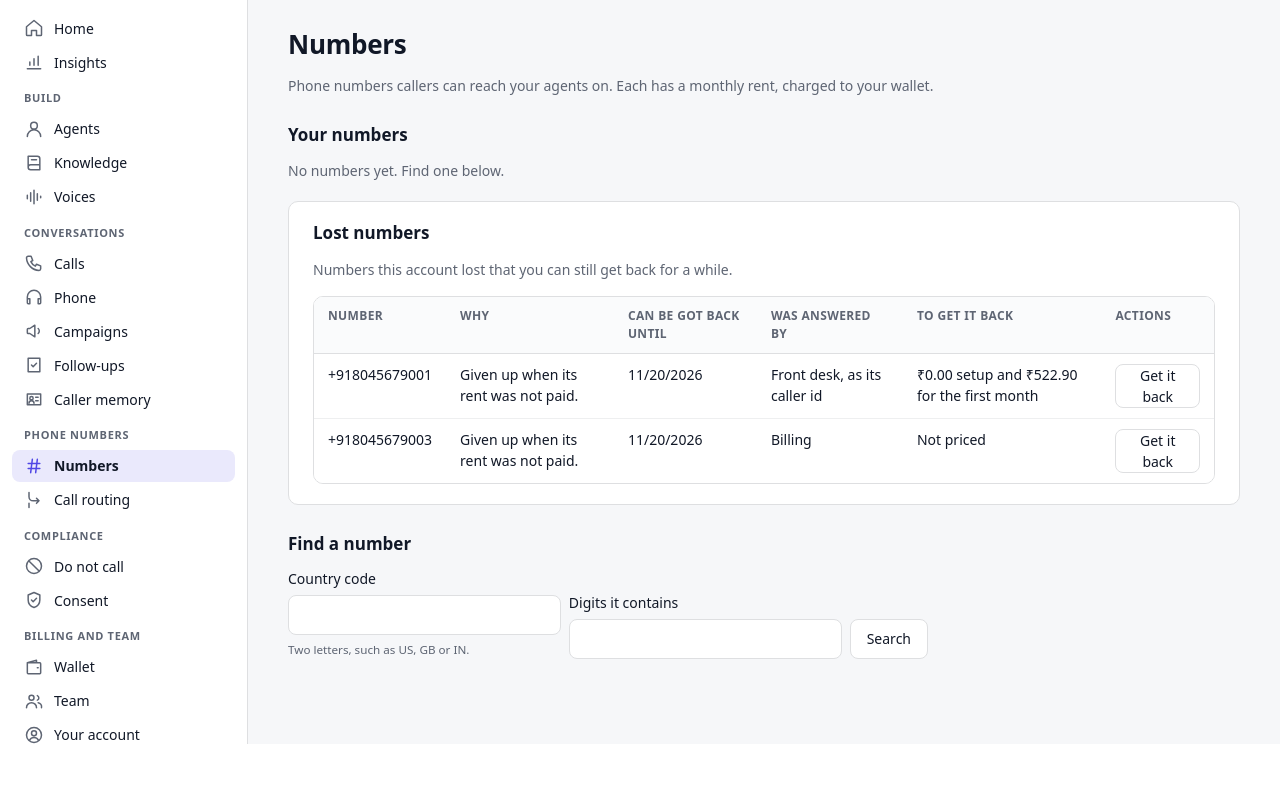
lost numbers › being got back by hand: says so in its row until the date, without reading the lists again; unpriced, the confirm names no cost
The image size is (1280, 800).
Expected: the table named "Lost numbers" is shown, [314,297,1214,483]
Click the button "Get it back" in the row of "+918045679003". click: (1158, 451)
box: [1116,429,1200,473]
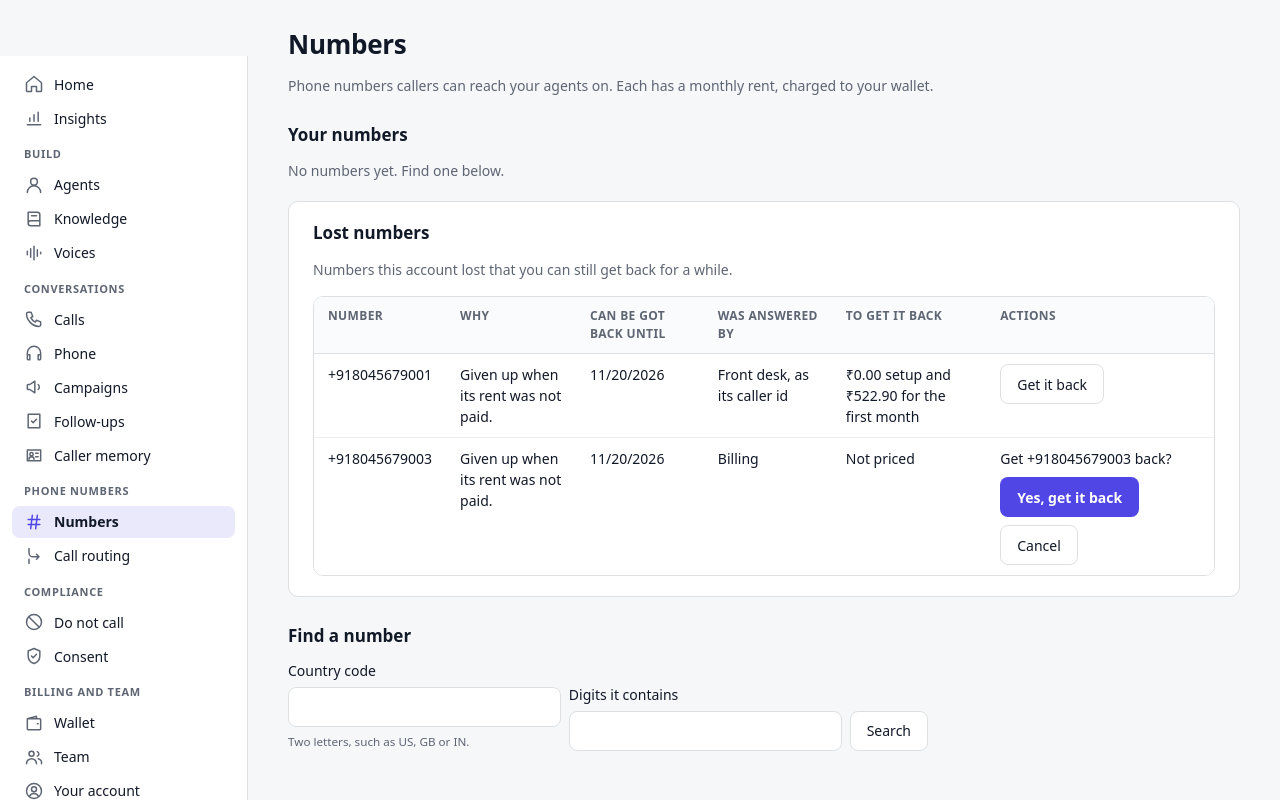
Expected: the text "Get +918045679003 back?" is shown, [1000,448,1172,469]
Click the button "Yes, get it back". click: (1070, 497)
box: [1000,477,1139,517]
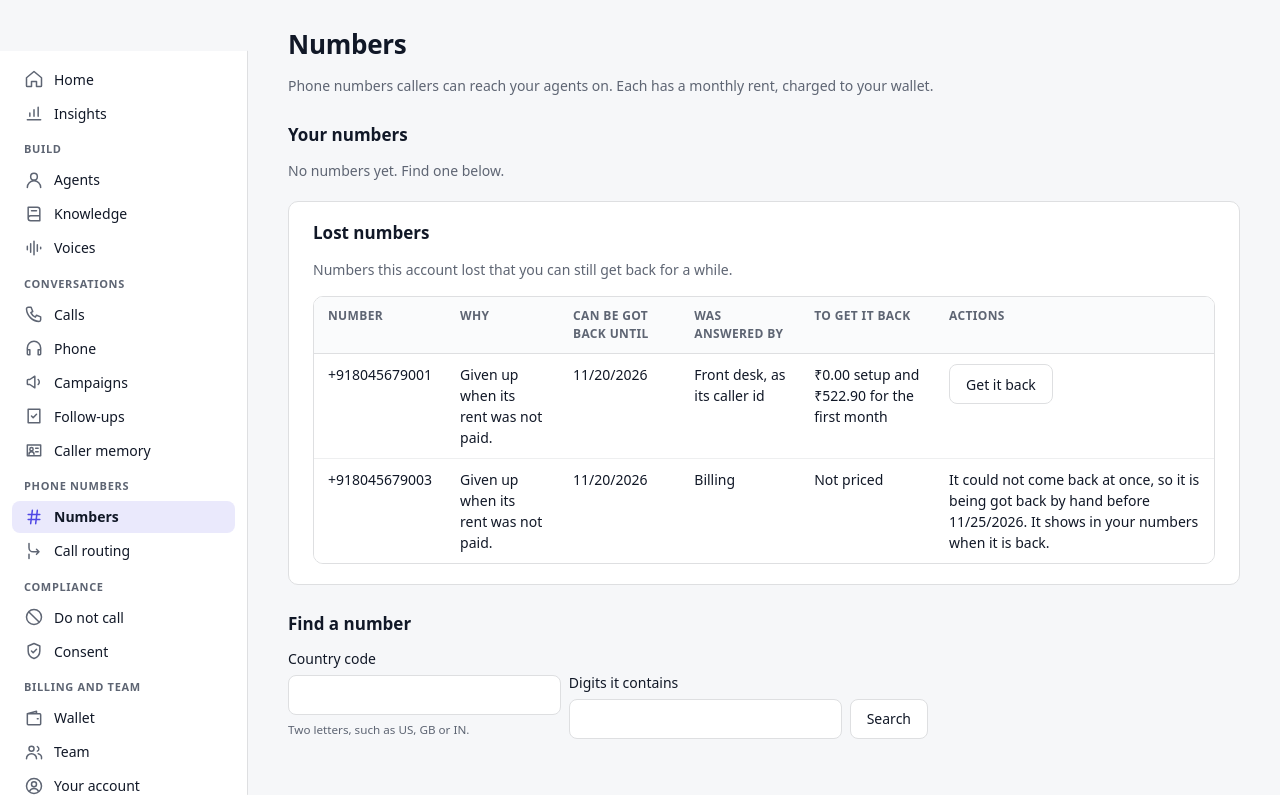
Expected: the button "Yes, get it back" is gone
Click the button "Get it back". click: (1001, 384)
box: [949,364,1053,404]
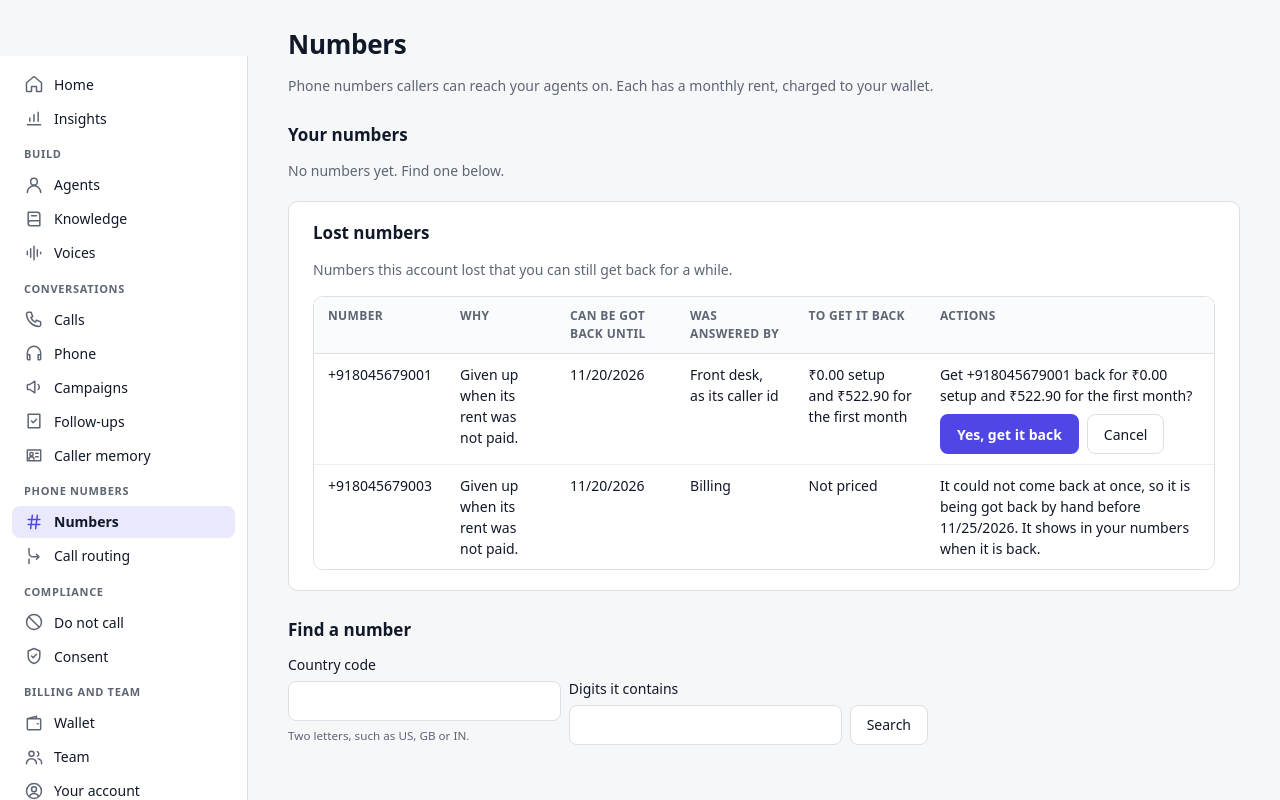
Click the button "Yes, get it back". click: (1009, 434)
box: [940,414,1079,454]
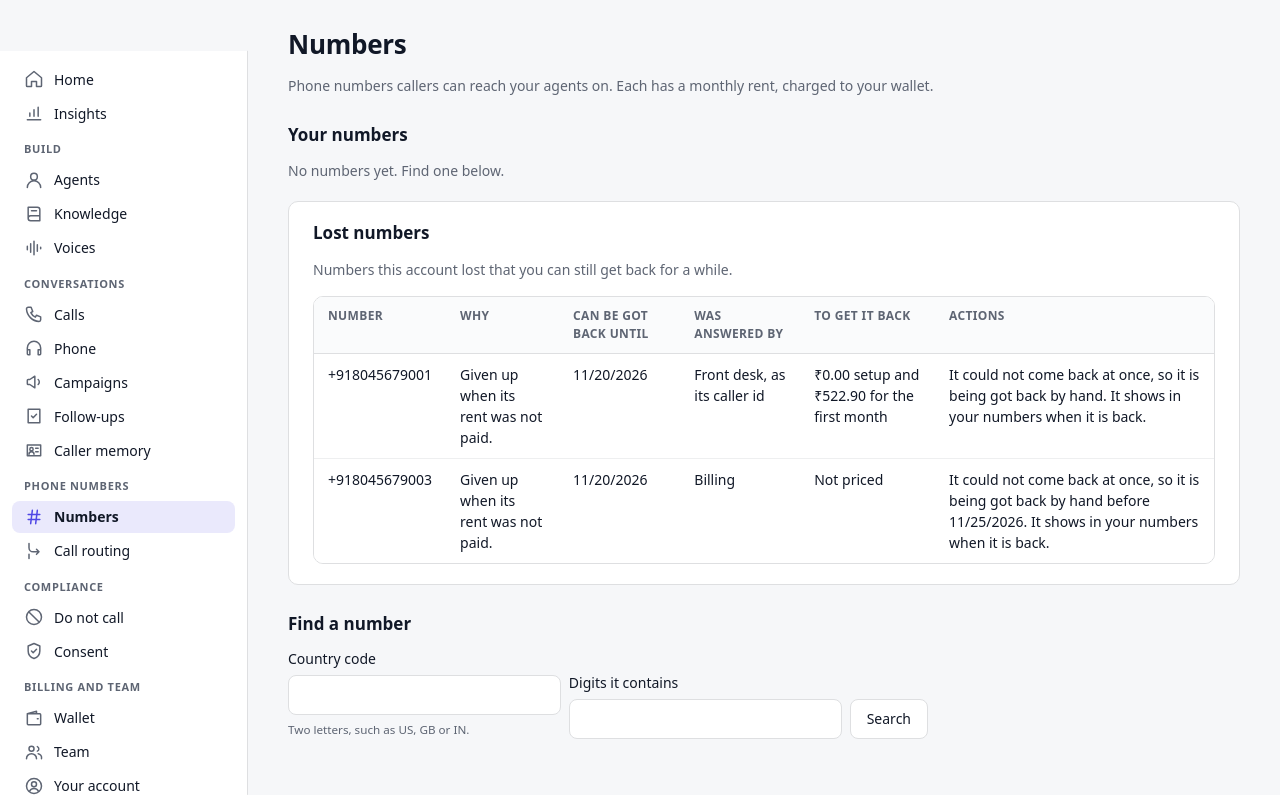
Expected: the 1st message shows "It could not come back at once, so it is being got back by hand. It shows in your numbers when it is back.", [949,365,1199,426]
